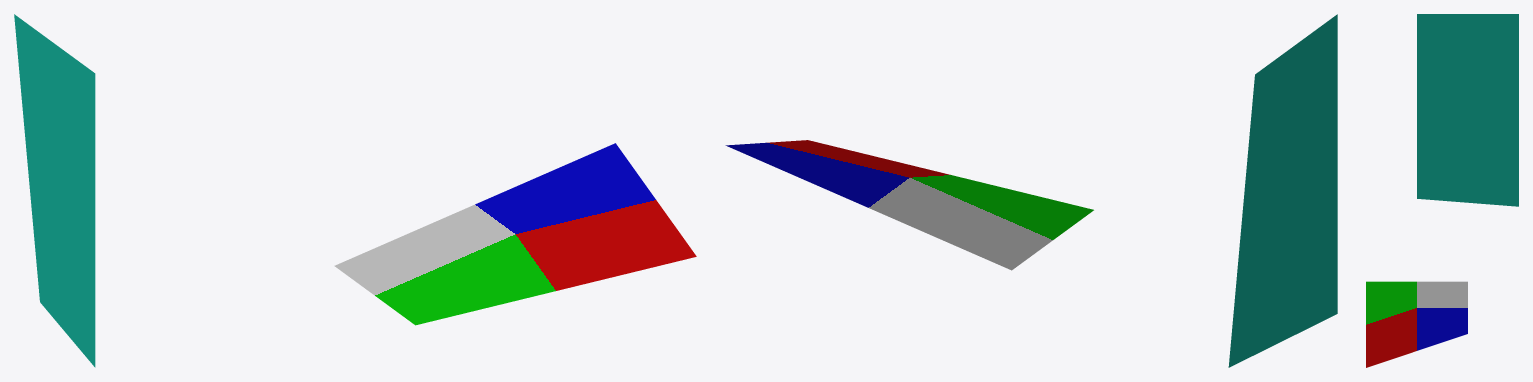
The picture shows the model from 3 angles, left to right: view 1: azimuth 30°, elevation 25°; view 2: azimuth 150°, elevation 25°; view 3: azimuth 270°, elevation 25°; orthographic projection. The views are drawn at different scales.
Visible parts, largest first — view 1: scaled, reusable; view 2: reusable, scaled; view 3: reusable, scaled.
Boxes of the visible parts, x1=… form: scaled: x1=334, y1=143, x2=696, y2=325; reusable: x1=14, y1=14, x2=95, y2=367; reusable: x1=1228, y1=14, x2=1337, y2=367; scaled: x1=725, y1=140, x2=1093, y2=270; reusable: x1=1417, y1=14, x2=1518, y2=206; scaled: x1=1366, y1=281, x2=1467, y2=367.
Size of the model in its own units: 1993 by 1000 by 750.
2 materials, 1 textured.
